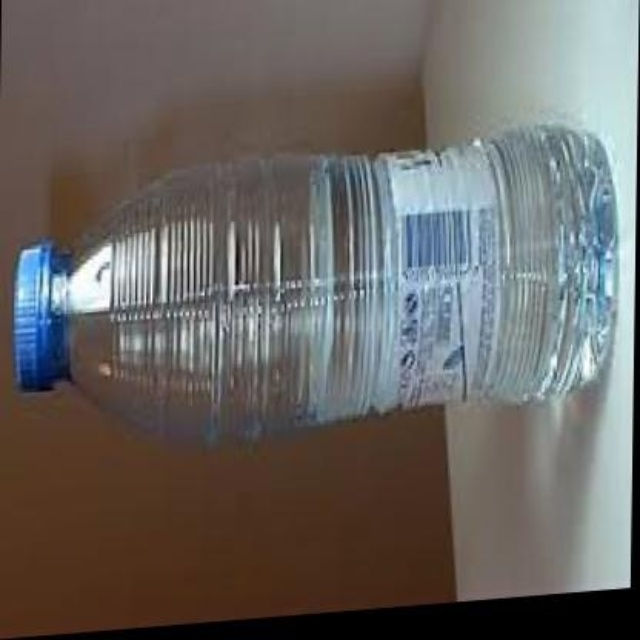trash: (71, 126, 615, 442)
